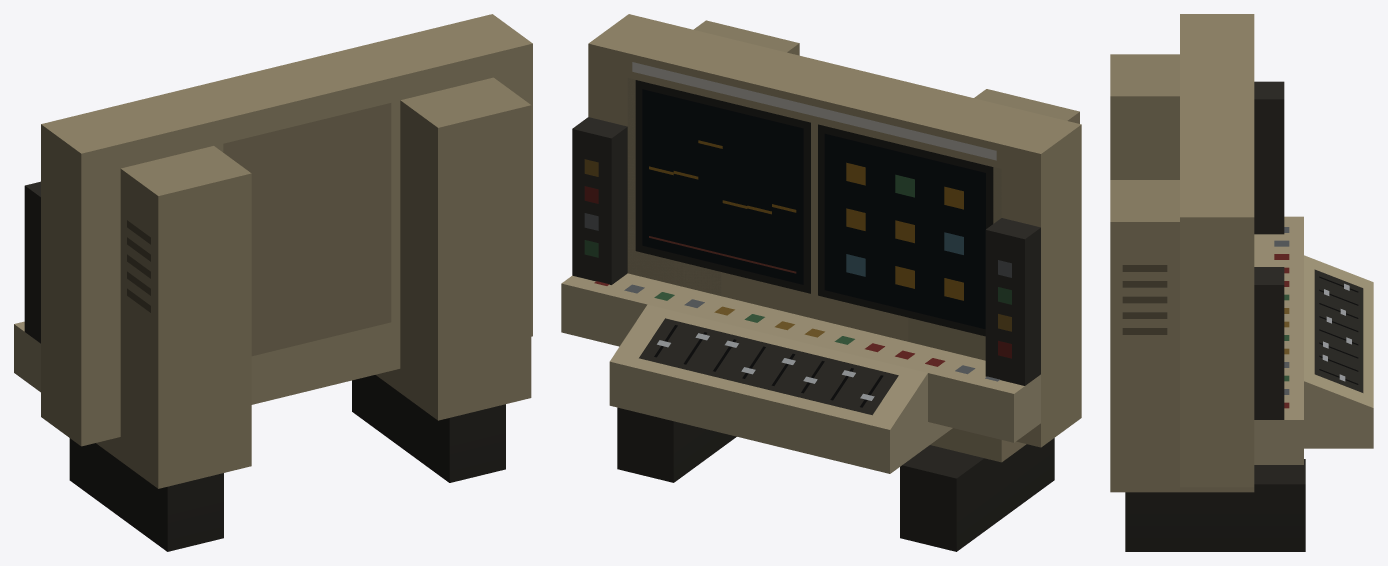
File: console.panel.sand.glb
The picture shows the model from 3 angles, left to right: view 1: azimuth 30°, elevation 25°; view 2: azimuth 150°, elevation 25°; view 3: azimuth 270°, elevation 25°; orthographic projection. The views are drawn at different scales.
Parts seen in each view (by area): view 1: console_panel_sand; view 2: console_panel_sand; view 3: console_panel_sand.
Part boxes in pixels (box(x1,y1,x2,y2)): console_panel_sand: box(14, 14, 532, 551); console_panel_sand: box(561, 14, 1081, 551); console_panel_sand: box(1110, 14, 1373, 551).
Size of what is drawn, in the model's own units: 1.94 by 1.6 by 1.06.
